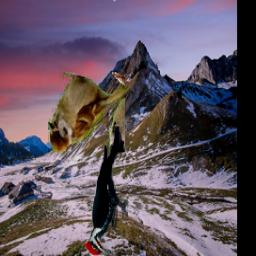Sparrow: (48, 73, 125, 153)
Woodpecker: (85, 127, 129, 256)
